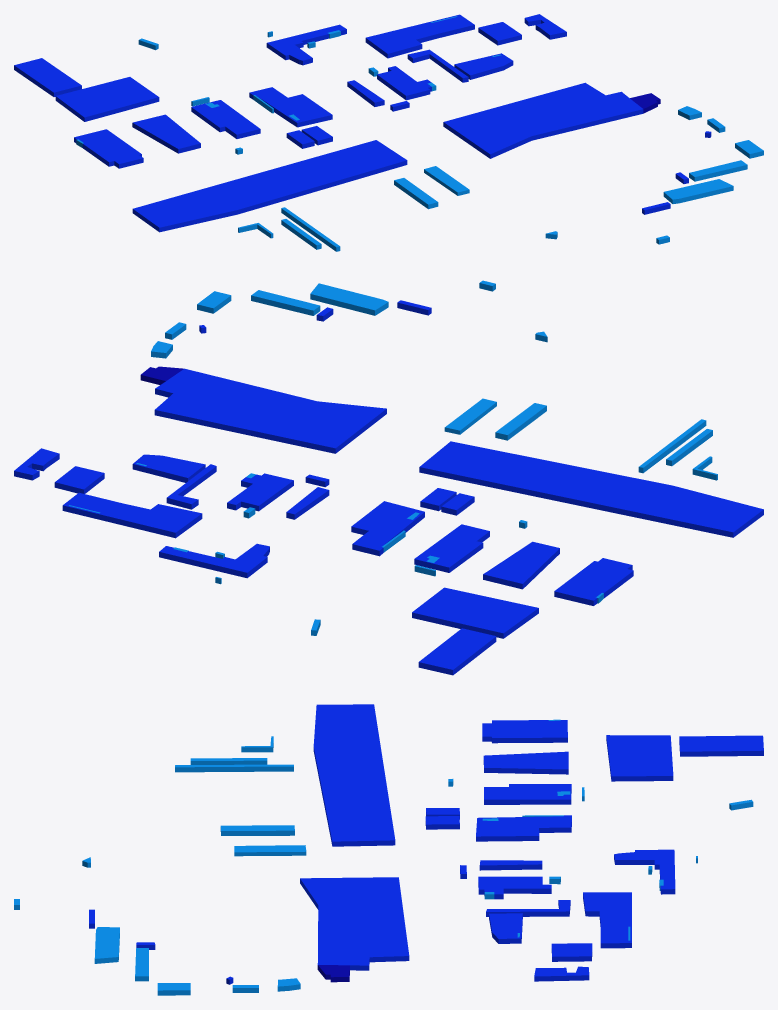
File: parking_2.fbx
The picture shows the model from 3 angles, top to bottom: view 1: azimuth 30°, elevation 25°; view 2: azimuth 150°, elevation 25°; view 3: azimuth 270°, elevation 25°; orthographic projection. The views are drawn at different scales.
Visible parts, largest first — view 1: Line008, Line021, Line037, Line032, Line018, Line009, Line012, Line010, Line038, Line033, Line024, Line003 (+9 smaller); view 2: Line008, Line021, Line037, Line032, Line018, Line009, Line038, Line012, Line010, Line033, Line024, Line003 (+8 smaller); view 3: Line008, Line021, Line037, Line032, Line018, Line009, Line038, Line010, Line012, Line033, Line024, Line027 (+9 smaller).
Boxes of the visible parts, x1,y1,x2,y2 form: Line008: (132, 140, 407, 232); Line021: (443, 82, 643, 158); Line037: (55, 77, 159, 121); Line032: (365, 14, 474, 58); Line018: (249, 87, 332, 127); Line009: (74, 129, 143, 168); Line012: (191, 100, 260, 138); Line010: (132, 114, 200, 153); Line038: (14, 58, 81, 96); Line033: (266, 24, 346, 65); Line024: (377, 66, 431, 100); Line003: (663, 179, 733, 203); Line008: (419, 441, 763, 537); Line021: (154, 368, 386, 453); Line037: (412, 587, 538, 638); Line032: (62, 492, 202, 538); Line018: (351, 501, 424, 556); Line009: (554, 558, 633, 605); Line038: (418, 628, 496, 675); Line012: (414, 524, 489, 572); Line010: (483, 541, 559, 589); Line033: (159, 543, 269, 578); Line024: (227, 473, 293, 511); Line003: (310, 283, 388, 315); Line008: (313, 704, 395, 846); Line021: (300, 877, 409, 970); Line037: (606, 735, 673, 781); Line032: (583, 892, 631, 948); Line018: (476, 815, 571, 841); Line009: (482, 720, 567, 743); Line038: (679, 735, 763, 756); Line010: (483, 751, 568, 774); Line012: (484, 784, 571, 804); Line033: (614, 849, 675, 894); Line024: (478, 876, 551, 899); Line027: (489, 913, 522, 943).
Bounding box in the file's own units: 238 × 1.97 × 264.
